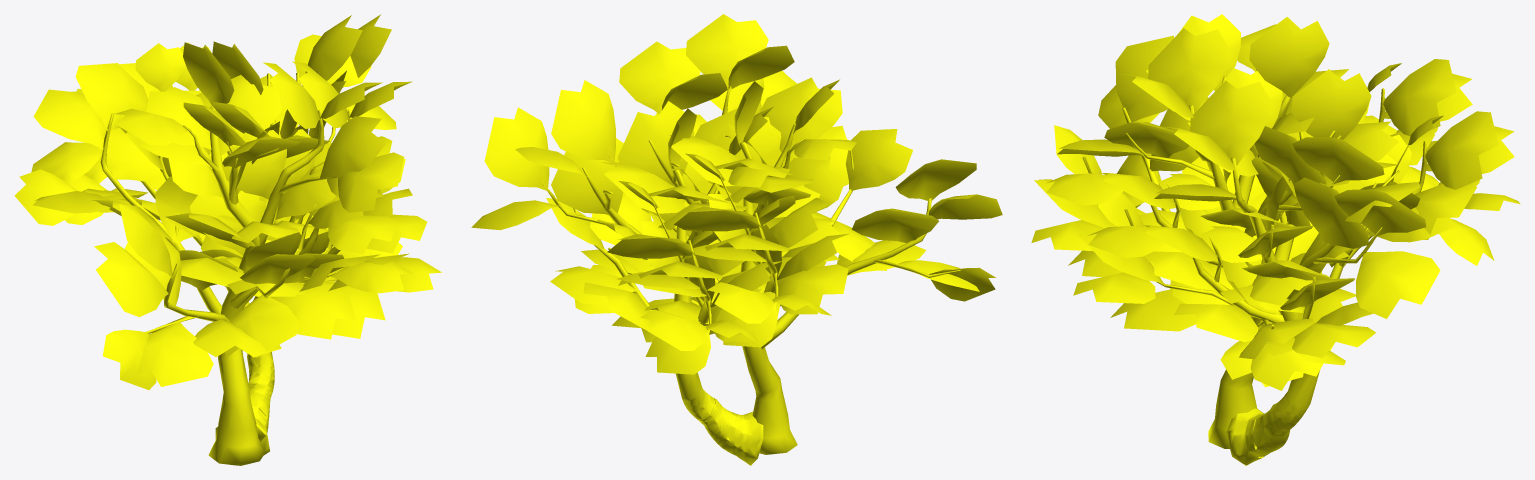
File: tree1.glb
3 views of the same model, side by side, from view 1: azimuth 30°, elevation 25°; view 2: azimuth 150°, elevation 25°; view 3: azimuth 270°, elevation 25° (orthographic). The views are drawn at different scales.
Parts seen in each view (by area): view 1: Tree_Bootcamp, Tree_Bootcamp_Bend; view 2: Tree_Bootcamp, Tree_Bootcamp_Bend; view 3: Tree_Bootcamp_Bend, Tree_Bootcamp.
Part boxes in pixels (box(x1,y1,x2,y2)): Tree_Bootcamp: box(14, 15, 412, 465); Tree_Bootcamp_Bend: box(65, 14, 441, 454); Tree_Bootcamp: box(551, 14, 1002, 454); Tree_Bootcamp_Bend: box(471, 41, 846, 465); Tree_Bootcamp_Bend: box(1073, 68, 1520, 465); Tree_Bootcamp: box(1031, 14, 1472, 448).
Size of the model in its own units: 11.39 by 10.7 by 10.94.
